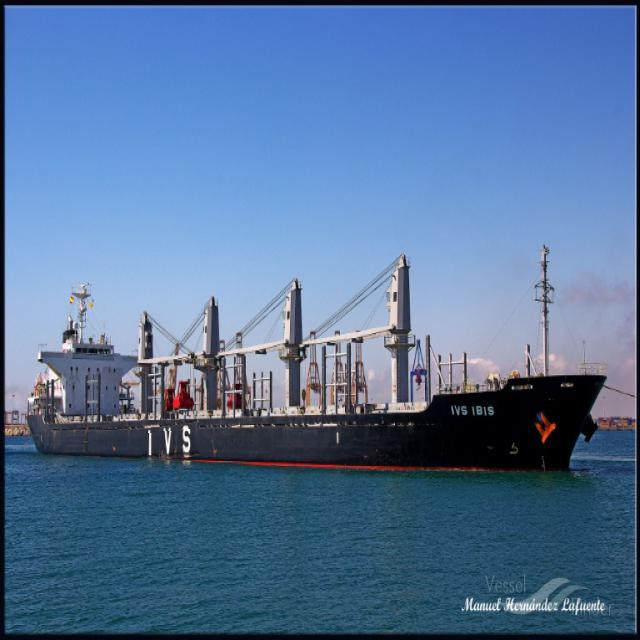OCR: (136, 420, 200, 462), (449, 395, 497, 423)
